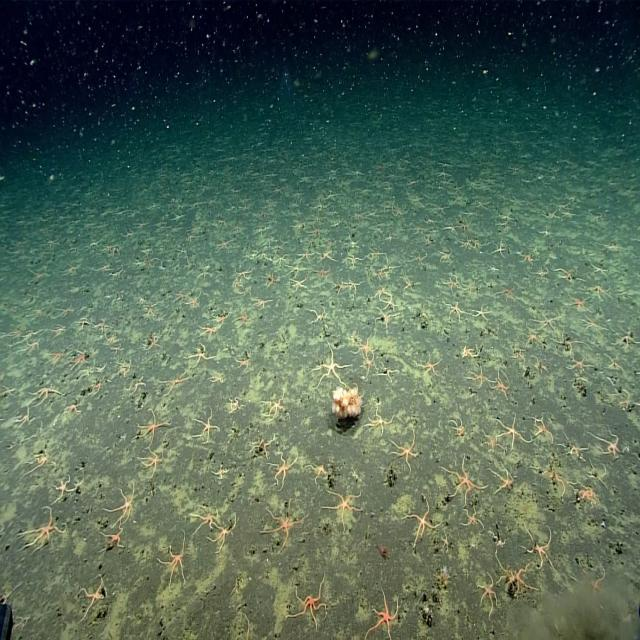brittle-stars: (283, 560, 335, 633), (147, 525, 193, 603), (304, 332, 358, 397), (253, 497, 315, 552), (395, 489, 444, 554), (66, 563, 111, 632), (491, 549, 540, 612), (13, 509, 67, 563), (440, 449, 487, 510), (318, 481, 368, 538), (94, 475, 142, 533), (567, 557, 620, 609), (362, 578, 404, 640), (520, 518, 561, 579), (580, 422, 636, 466), (384, 423, 426, 475), (489, 405, 532, 453), (129, 398, 169, 448), (40, 468, 87, 510), (183, 401, 220, 453), (362, 396, 401, 444), (264, 446, 301, 494), (257, 385, 296, 429), (129, 446, 166, 491), (204, 515, 243, 556), (485, 459, 522, 501), (19, 379, 66, 411), (18, 438, 52, 482), (88, 522, 132, 556), (176, 340, 223, 370), (472, 568, 499, 620), (532, 462, 568, 500), (186, 499, 218, 539), (459, 361, 497, 394), (190, 310, 229, 342), (527, 302, 562, 336), (238, 431, 275, 463), (2, 324, 44, 352), (415, 348, 445, 386), (528, 409, 558, 447), (12, 397, 36, 444), (605, 383, 640, 415), (155, 368, 191, 398), (458, 504, 488, 540), (57, 345, 87, 379), (566, 482, 601, 511), (439, 412, 467, 448), (135, 326, 165, 359), (301, 458, 331, 491), (135, 291, 163, 326), (545, 331, 584, 356), (222, 265, 253, 296), (347, 331, 378, 362), (219, 392, 248, 425), (606, 326, 640, 354), (557, 291, 592, 318), (367, 310, 408, 333), (551, 440, 592, 462), (551, 262, 585, 288), (36, 345, 66, 374), (44, 300, 74, 328), (206, 458, 232, 490), (584, 460, 612, 489), (488, 371, 515, 401), (436, 303, 474, 324), (454, 341, 487, 365), (227, 308, 256, 335), (576, 315, 610, 338), (476, 433, 507, 458), (353, 356, 382, 382), (337, 251, 367, 276), (562, 352, 594, 375), (487, 523, 509, 556), (492, 282, 522, 306), (284, 274, 310, 301), (518, 326, 546, 351), (120, 372, 144, 401), (306, 303, 332, 329), (59, 396, 81, 426), (276, 261, 309, 280), (430, 243, 456, 267), (586, 281, 613, 304), (371, 259, 399, 281), (399, 275, 428, 296), (376, 363, 401, 387), (289, 246, 317, 267), (92, 313, 112, 342), (486, 238, 509, 263), (248, 292, 274, 314), (369, 280, 391, 306), (528, 356, 550, 382), (601, 351, 623, 377), (341, 274, 365, 297), (75, 360, 98, 384), (232, 349, 254, 374), (469, 304, 494, 326), (313, 247, 338, 269), (436, 528, 454, 558), (587, 262, 614, 282), (405, 247, 428, 270), (527, 264, 551, 286), (490, 208, 514, 230), (378, 291, 399, 316), (111, 356, 132, 380), (307, 265, 334, 283), (204, 371, 227, 392), (258, 269, 281, 290), (42, 323, 66, 343), (506, 346, 528, 367), (69, 318, 93, 337), (330, 275, 348, 300), (0, 369, 12, 406), (439, 276, 459, 298), (83, 377, 102, 400), (387, 203, 410, 222), (460, 278, 479, 300), (212, 236, 234, 255), (531, 226, 555, 243), (239, 608, 251, 640), (166, 290, 185, 310), (516, 251, 536, 270), (455, 235, 473, 256), (183, 294, 203, 312), (252, 247, 270, 267), (98, 329, 115, 350), (18, 342, 40, 358), (105, 342, 126, 358), (92, 361, 108, 376), (482, 266, 500, 279)
